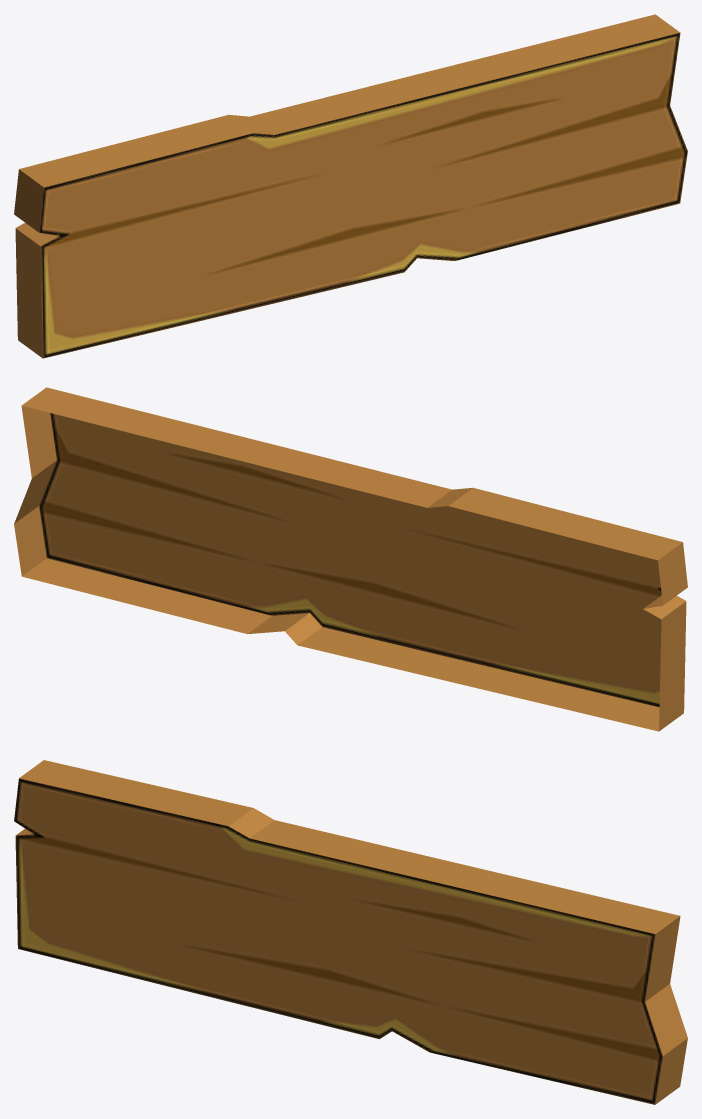
File: Track_Brick.fbx
3 renders of one model, top to bottom at view 1: azimuth 30°, elevation 25°; view 2: azimuth 150°, elevation 25°; view 3: azimuth 330°, elevation 25°, orthographic.
Visible parts, largest first — view 1: pCube3; view 2: pCube3; view 3: pCube3.
Part boxes in pixels (bbox=[...]): pCube3: bbox=[14, 14, 687, 358]; pCube3: bbox=[14, 387, 687, 731]; pCube3: bbox=[14, 760, 687, 1104].
Bounding box in the file's own units: 89.74 × 23.4 × 6.
1 material, 1 textured.
